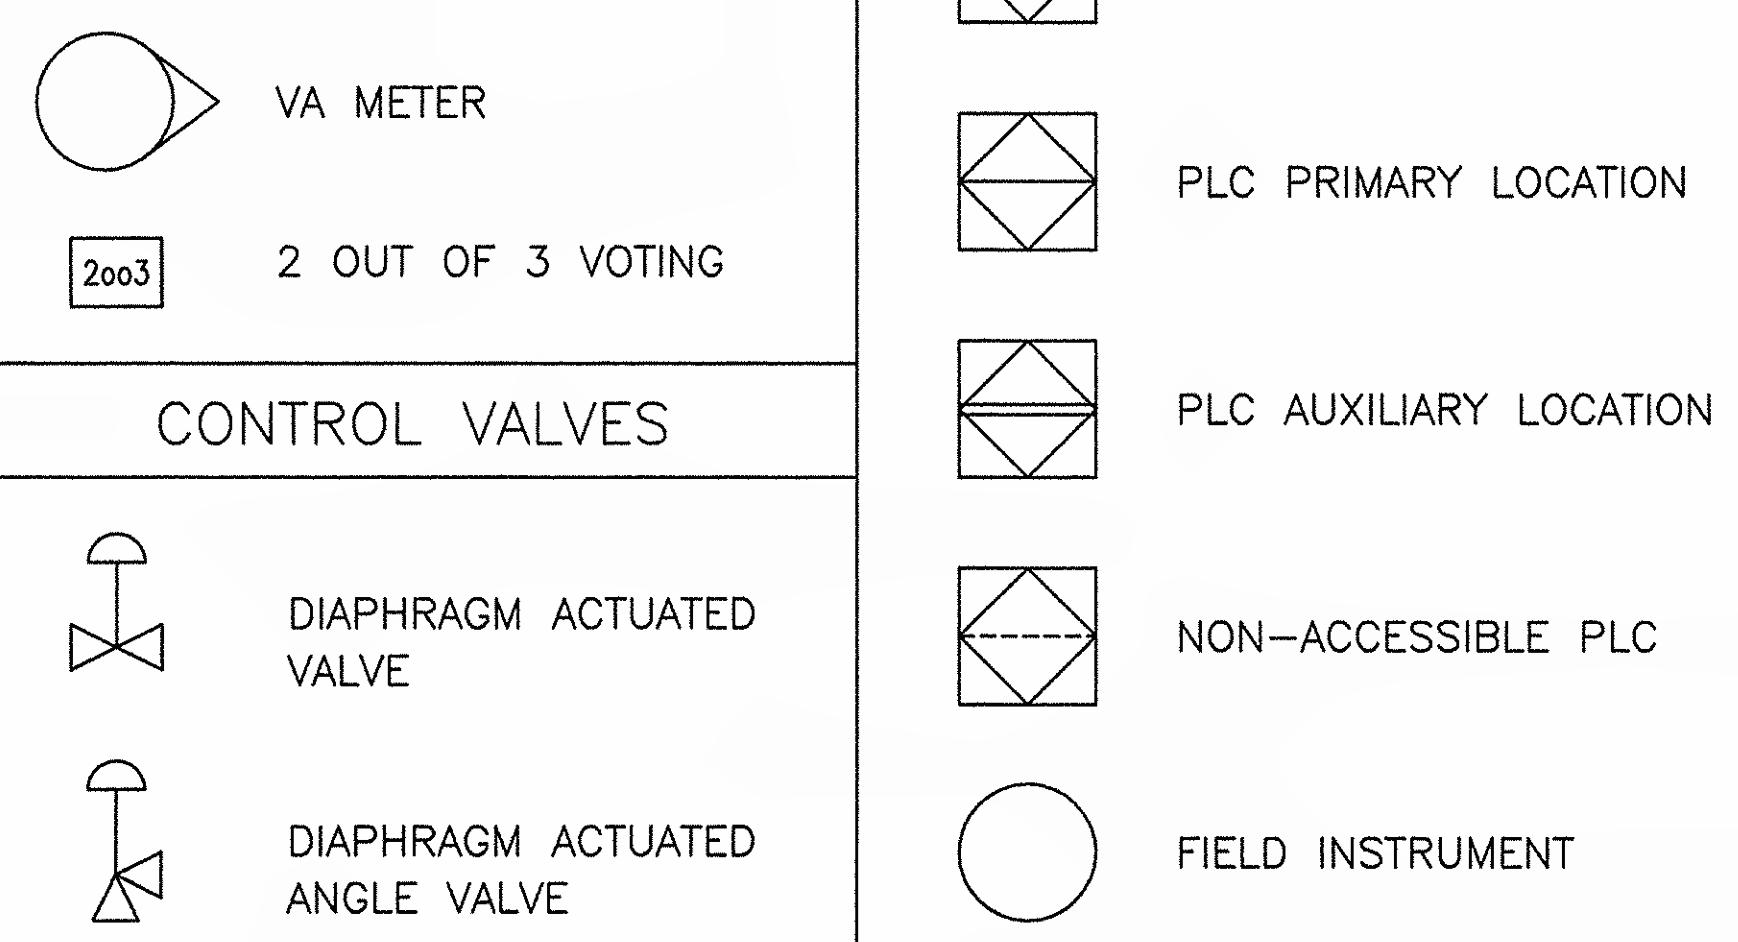2 OUT OF 3 VOTING: (63, 230, 170, 314)
DIAPHRAGM ACTUATED ANGLE VALVE: (81, 749, 162, 932)
DIAPHRAGM ACTUATED VALVE: (63, 521, 172, 680)
FIELD INSTRUMENT: (950, 771, 1103, 926)
NON-ACCESSIBLE PLC: (952, 556, 1104, 718)
PLC AUXILIARY LOCATION: (948, 333, 1104, 483)
PLC PRIMARY LOCATION: (953, 107, 1106, 258)
VA METER: (35, 26, 221, 173)
